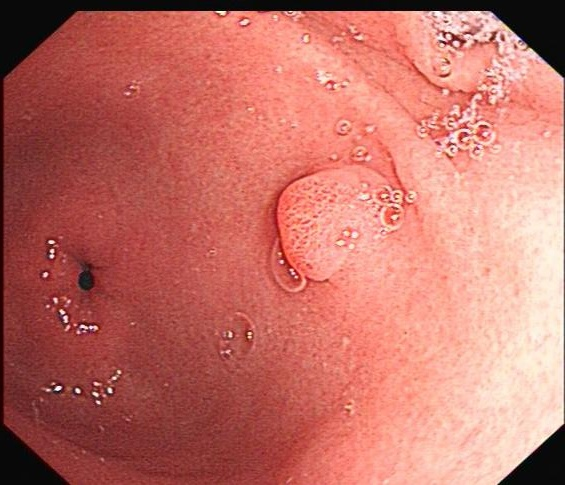Polyp: (266, 164, 394, 295)
